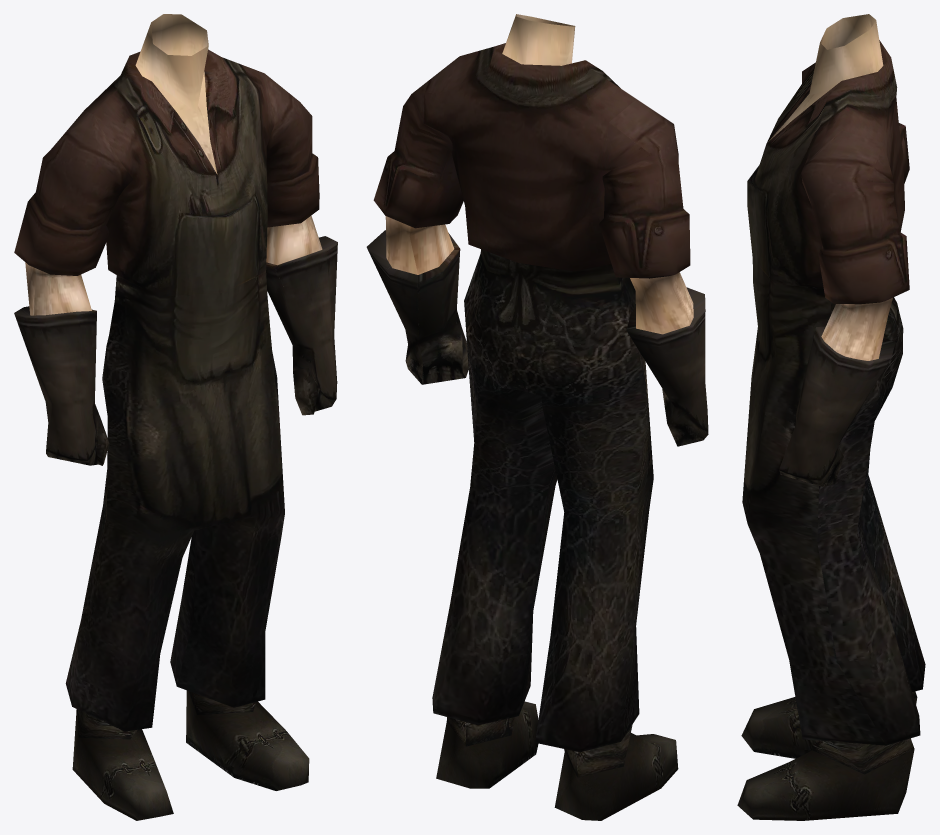
Rendered from DK_ARMOR_CITIZEN_BLACKSMITH_01.glb.
3 renders of one model, left to right at view 1: azimuth 30°, elevation 25°; view 2: azimuth 150°, elevation 25°; view 3: azimuth 270°, elevation 25°, orthographic. The views are drawn at different scales.
Visible parts, largest first — view 1: DK_ARMOR_CITIZEN_BLACKSMITH_01; view 2: DK_ARMOR_CITIZEN_BLACKSMITH_01; view 3: DK_ARMOR_CITIZEN_BLACKSMITH_01.
Boxes of the visible parts, x1=… form: DK_ARMOR_CITIZEN_BLACKSMITH_01: x1=14, y1=14, x2=337, y2=820; DK_ARMOR_CITIZEN_BLACKSMITH_01: x1=366, y1=14, x2=708, y2=820; DK_ARMOR_CITIZEN_BLACKSMITH_01: x1=737, y1=14, x2=925, y2=820.
Bounding box in the file's own units: 0.7394 × 1.68 × 0.3777.
Materials: 2 (2 with a texture image).
